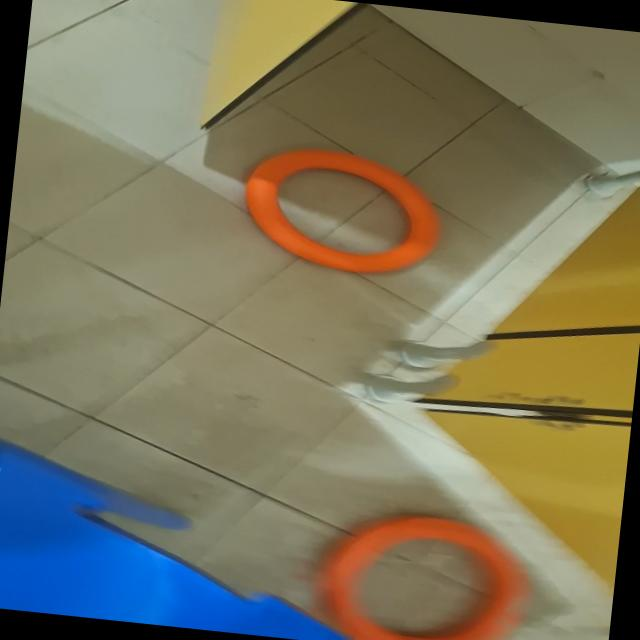note: (307, 502, 539, 640), (235, 140, 448, 282)
